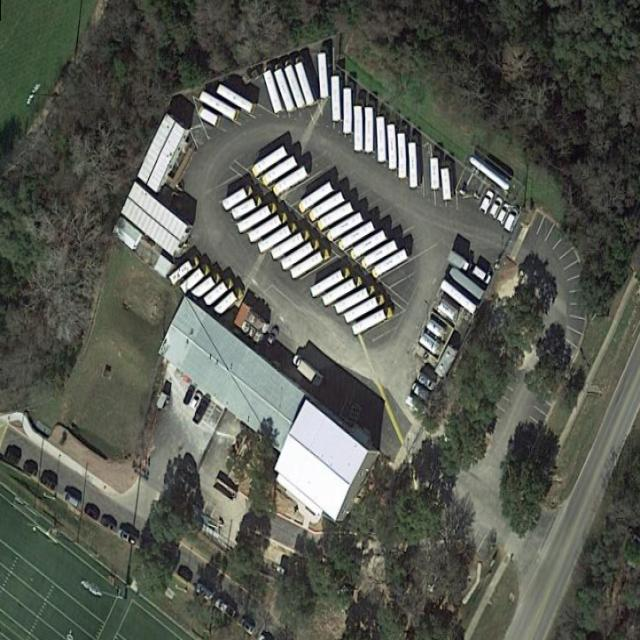large-vehicle: (343, 292, 386, 326), (309, 265, 352, 299), (238, 200, 278, 235), (334, 283, 377, 315), (360, 237, 400, 271), (269, 228, 310, 261), (257, 221, 298, 254), (248, 211, 289, 244), (351, 305, 394, 336), (323, 275, 363, 308), (279, 239, 320, 271), (281, 59, 306, 111), (441, 279, 477, 315), (448, 266, 485, 301), (349, 228, 387, 262), (338, 220, 376, 253), (326, 211, 364, 244), (371, 247, 409, 280), (316, 201, 355, 233), (290, 248, 330, 279), (272, 164, 308, 198), (297, 180, 333, 214), (308, 191, 346, 223), (216, 83, 254, 115), (199, 90, 238, 121), (272, 64, 296, 114), (252, 145, 287, 179), (261, 155, 298, 187), (293, 57, 316, 107), (168, 254, 200, 287), (204, 275, 234, 310), (262, 65, 283, 114), (180, 262, 210, 296), (191, 270, 221, 304), (214, 285, 244, 319), (222, 183, 254, 212), (231, 194, 261, 221), (330, 71, 342, 123), (317, 49, 329, 99), (397, 126, 408, 178), (386, 118, 397, 170), (377, 109, 387, 163), (364, 100, 374, 152), (429, 150, 441, 191), (409, 135, 418, 189), (343, 81, 352, 135), (354, 99, 363, 151), (441, 161, 452, 202)
small-vehicle: (446, 248, 472, 275), (469, 261, 493, 287), (478, 187, 496, 218), (503, 205, 521, 235), (215, 597, 238, 620), (192, 398, 209, 426), (410, 382, 432, 403), (194, 581, 215, 603), (116, 527, 139, 547), (416, 372, 438, 392), (496, 201, 512, 228), (60, 490, 81, 510), (265, 323, 281, 349), (489, 195, 505, 221), (238, 617, 257, 637), (176, 564, 195, 582), (99, 517, 119, 534), (40, 474, 58, 492), (4, 449, 21, 468), (189, 390, 203, 412), (22, 461, 39, 478), (183, 384, 196, 406), (84, 504, 100, 521)
